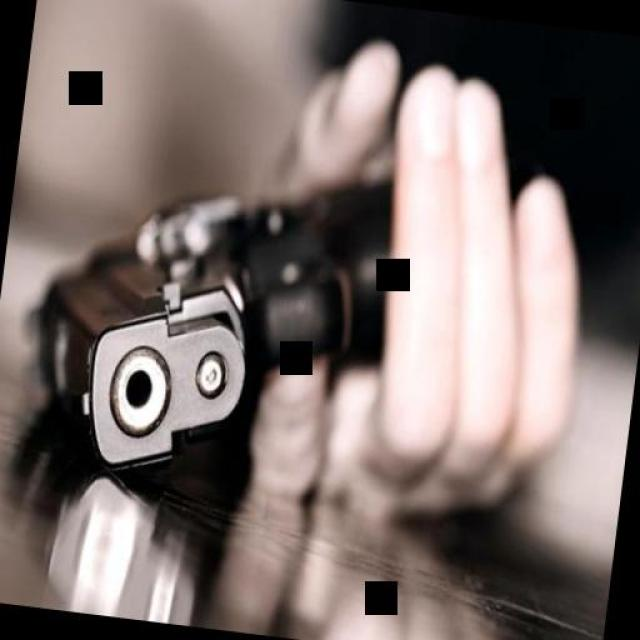gun: (20, 140, 474, 510)
